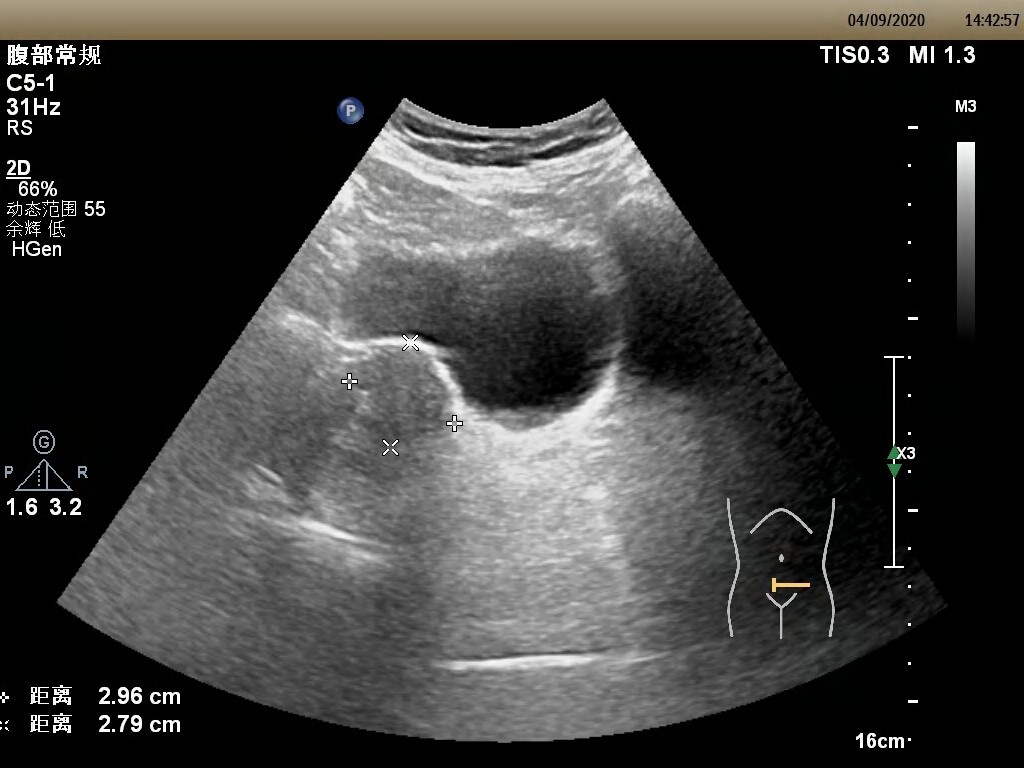肌瘤: (348, 341, 455, 445)
